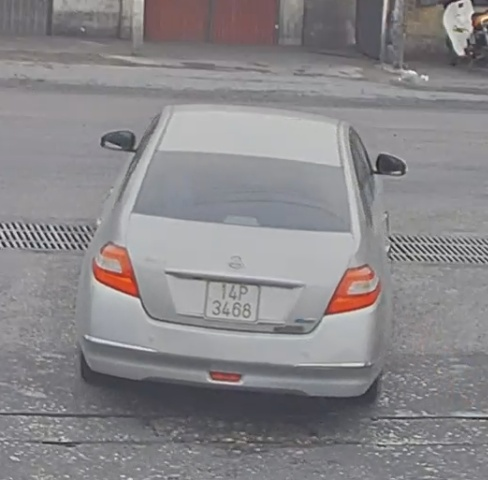vehicle plate: (205, 272, 267, 328)
